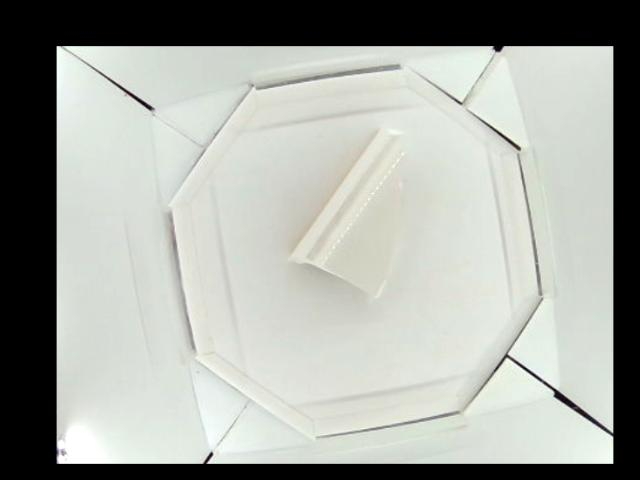China: (284, 127, 405, 296)
